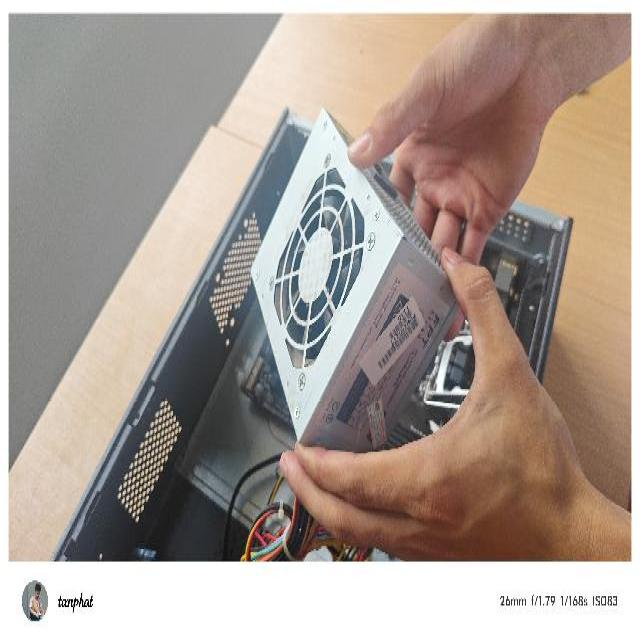PSU: (246, 102, 468, 482)
